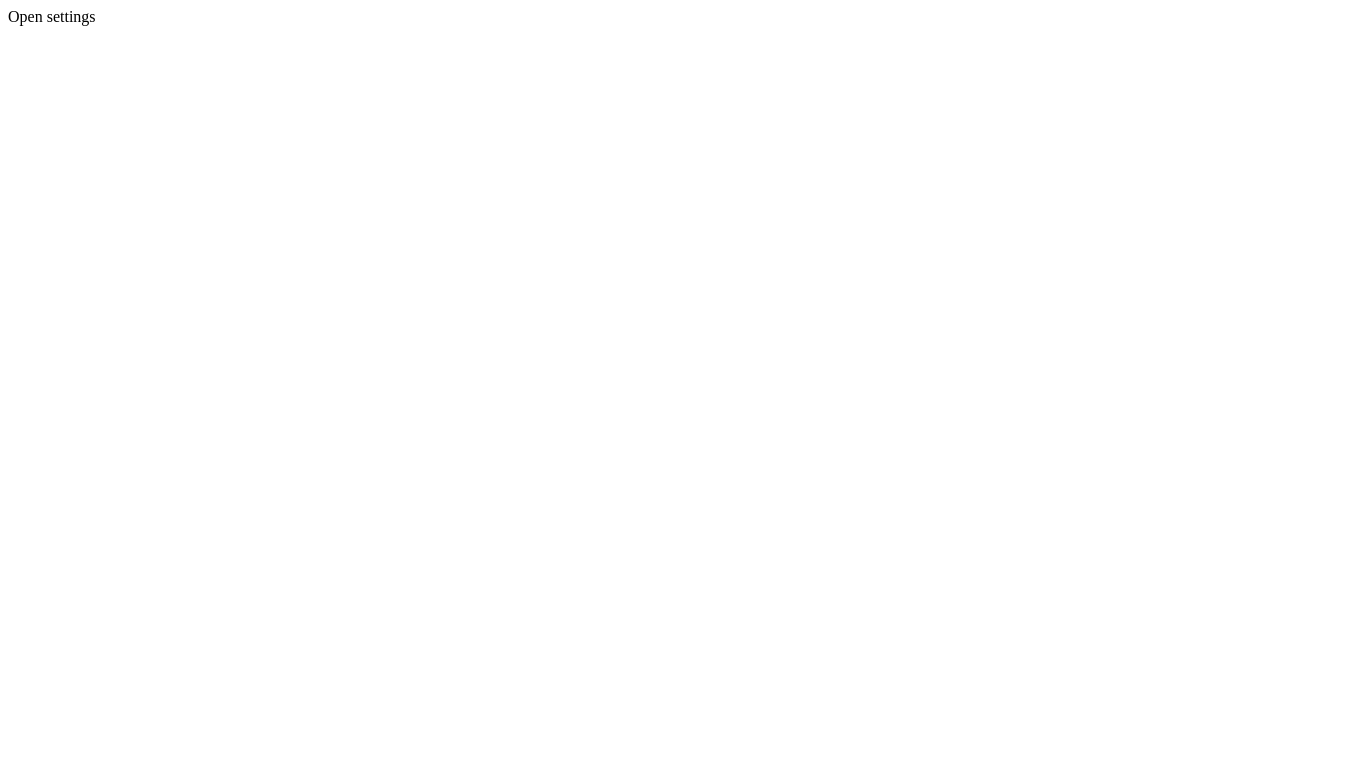
Test: Dialog › closes with Escape and restores focus to the trigger
Click the button "Open settings" at (52, 17), box [8,8,96,26]
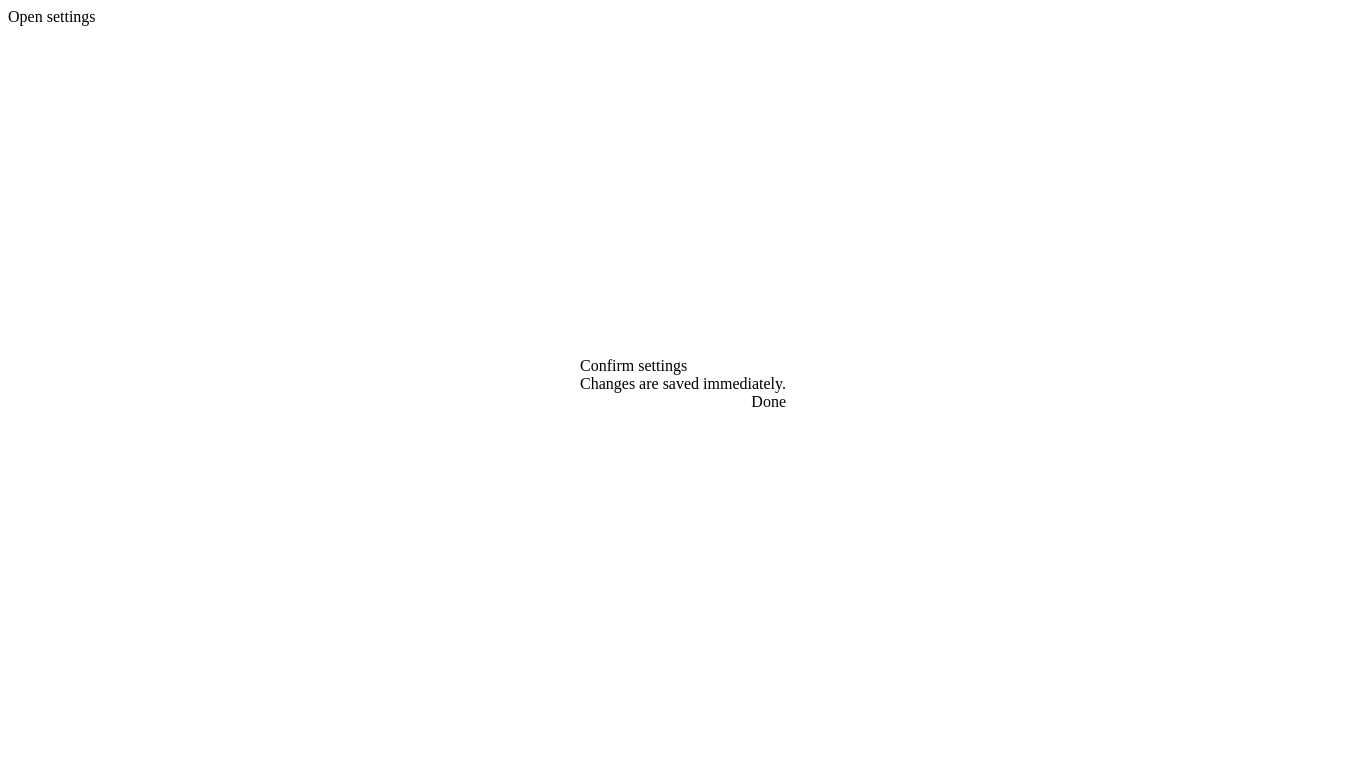
Check: the dialog is shown, box [580,357,786,411]
Press Escape
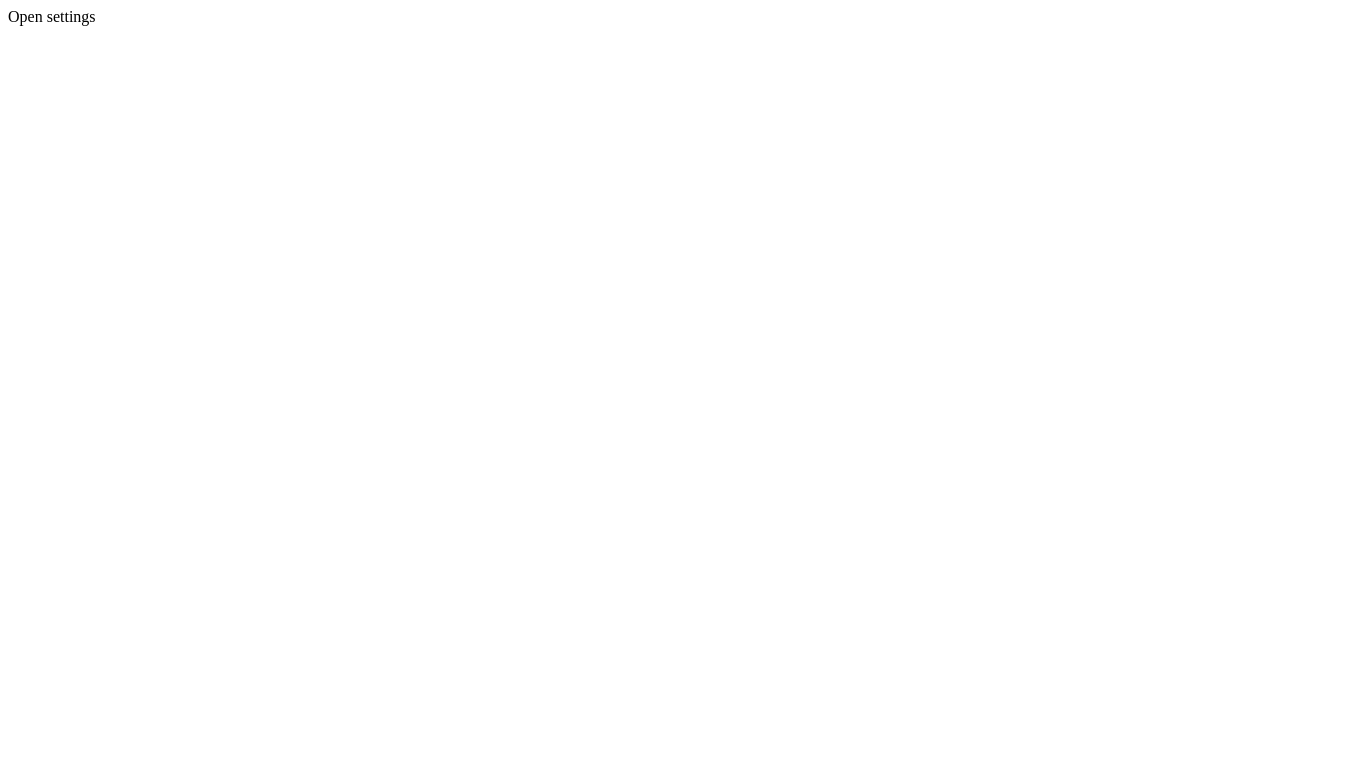
Check: the dialog is gone
